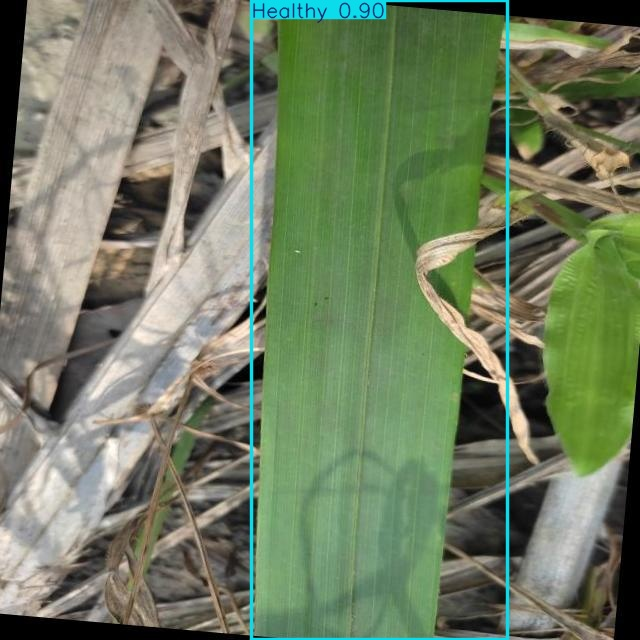Healthy: (251, 0, 507, 639)
